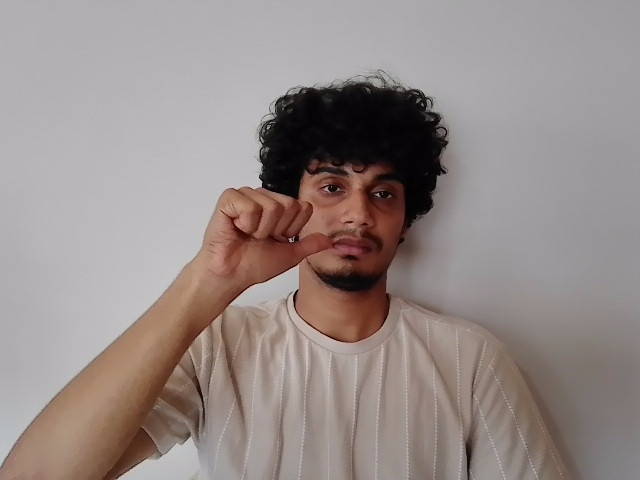drink: (198, 153, 431, 291)
